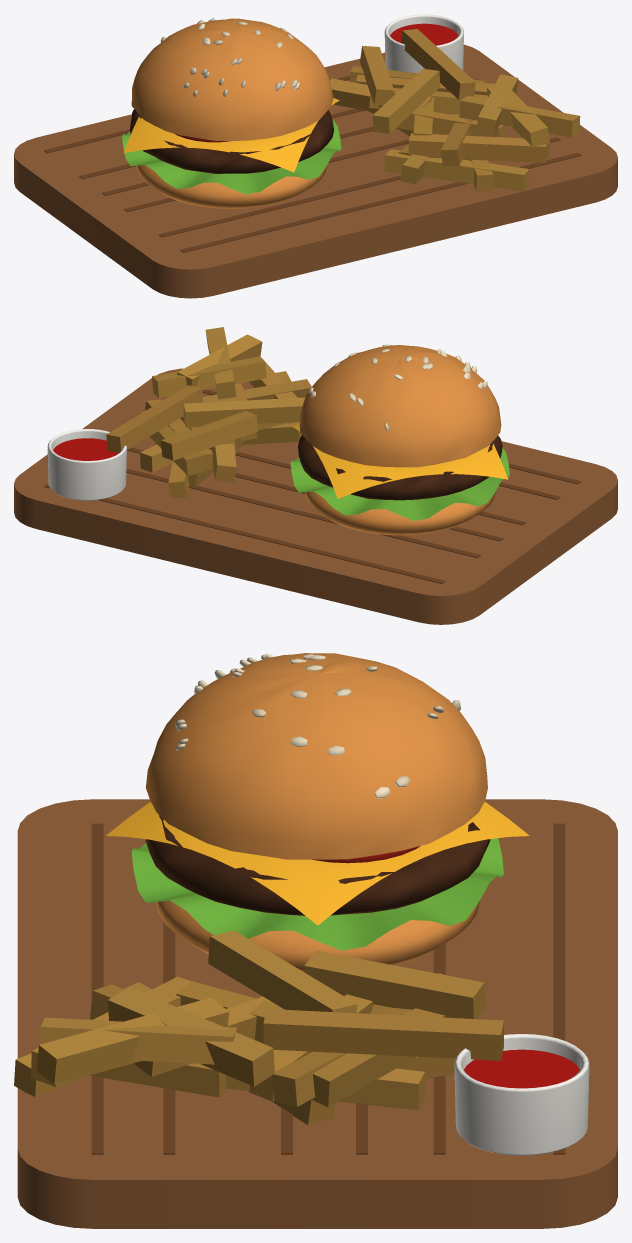
File: hamburguesa.glb
The picture shows the model from 3 angles, top to bottom: view 1: azimuth 30°, elevation 25°; view 2: azimuth 150°, elevation 25°; view 3: azimuth 270°, elevation 25°; orthographic projection. The views are drawn at different scales.
Parts seen in each view (by area): view 1: hamburguesa; view 2: hamburguesa; view 3: hamburguesa.
Boxes of the visible parts, box(x1,y1,x2,y2) form: hamburguesa: box(14, 14, 617, 298); hamburguesa: box(14, 327, 617, 624); hamburguesa: box(14, 653, 617, 1228).
Bounding box in the file's own units: 0.3 × 0.1092 × 0.2012.
